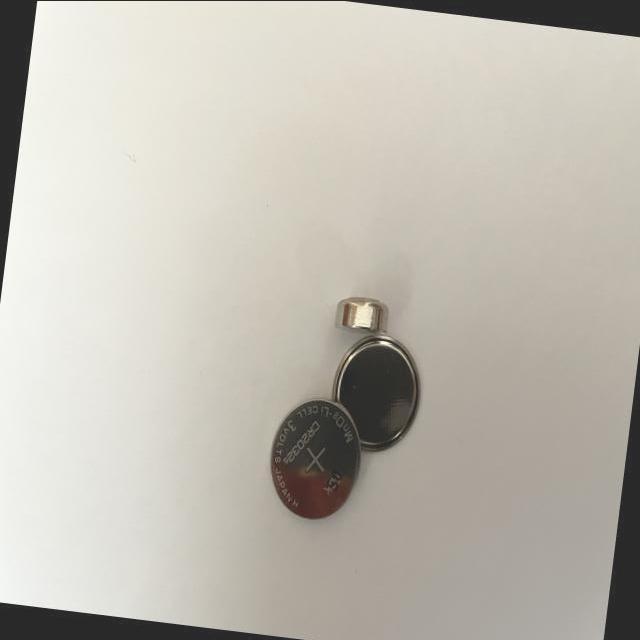COIN: (260, 390, 370, 526), (324, 332, 428, 458), (328, 290, 394, 342)
